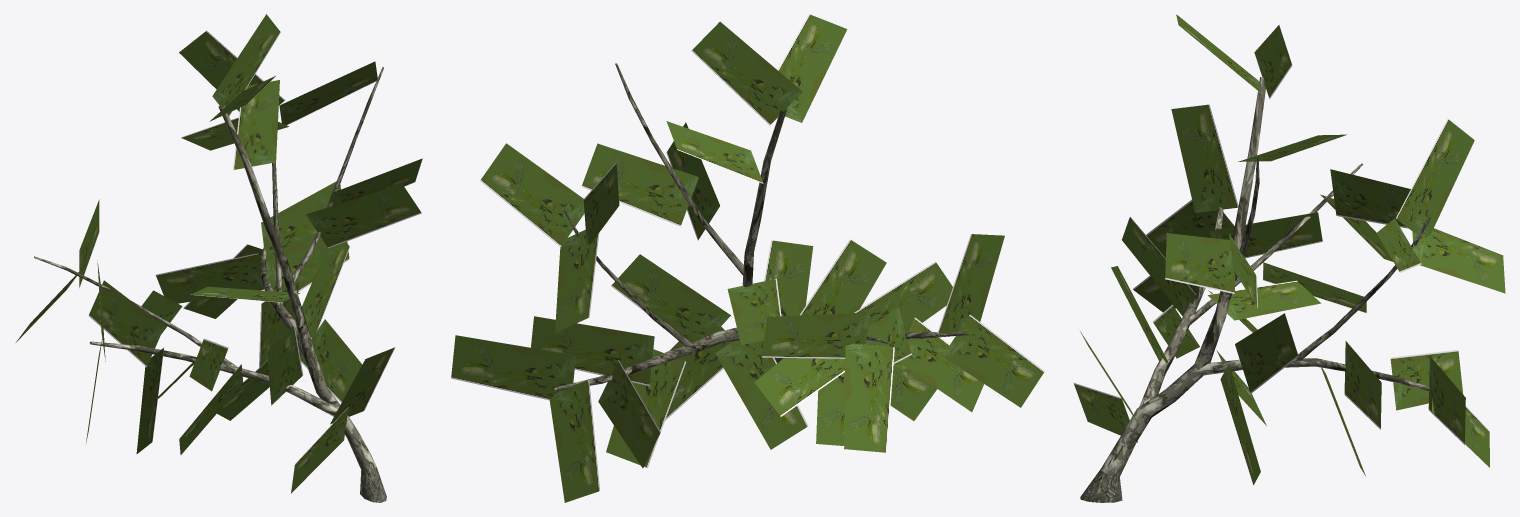
File: Branch09.fbx
The picture shows the model from 3 angles, left to right: view 1: azimuth 30°, elevation 25°; view 2: azimuth 150°, elevation 25°; view 3: azimuth 270°, elevation 25°; orthographic projection. The views are drawn at different scales.
Parts seen in each view (by area): view 1: Branch09, Object001; view 2: Branch09; view 3: Branch09, Object001.
Boxes of the visible parts, <box> form: Branch09: <box>16,14,422,493</box>; Object001: <box>347,436,386,502</box>; Branch09: <box>451,14,1044,502</box>; Branch09: <box>1073,14,1505,485</box>; Object001: <box>1080,441,1136,502</box>.
Size of the model in its own units: 119 by 120 by 101.
